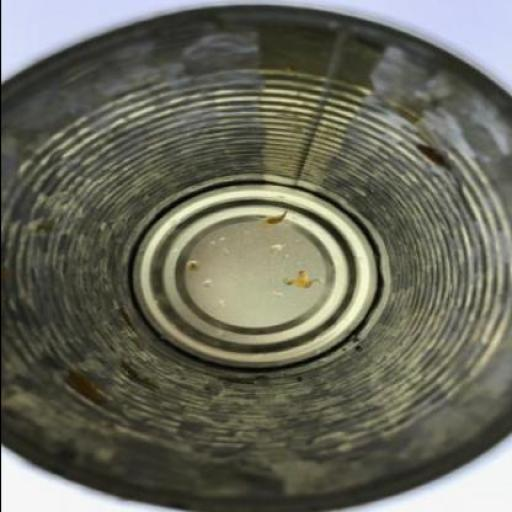metal: (1, 5, 511, 511)
